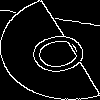O: (24, 25, 100, 79)
